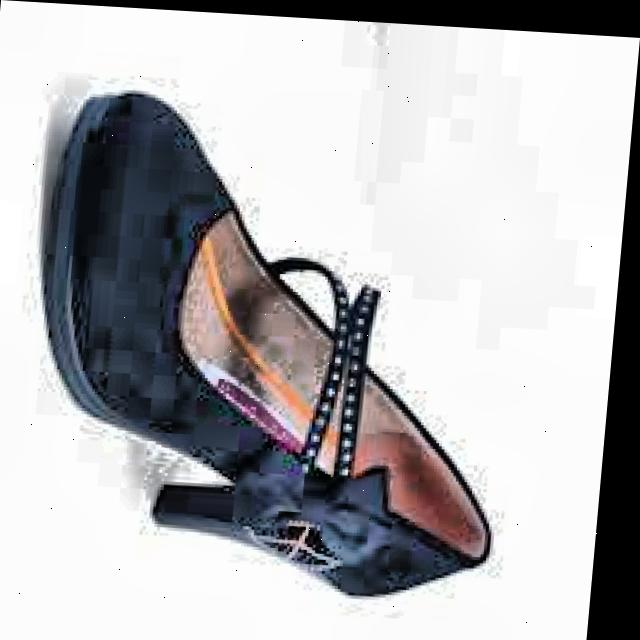shoes: (0, 35, 574, 640)
